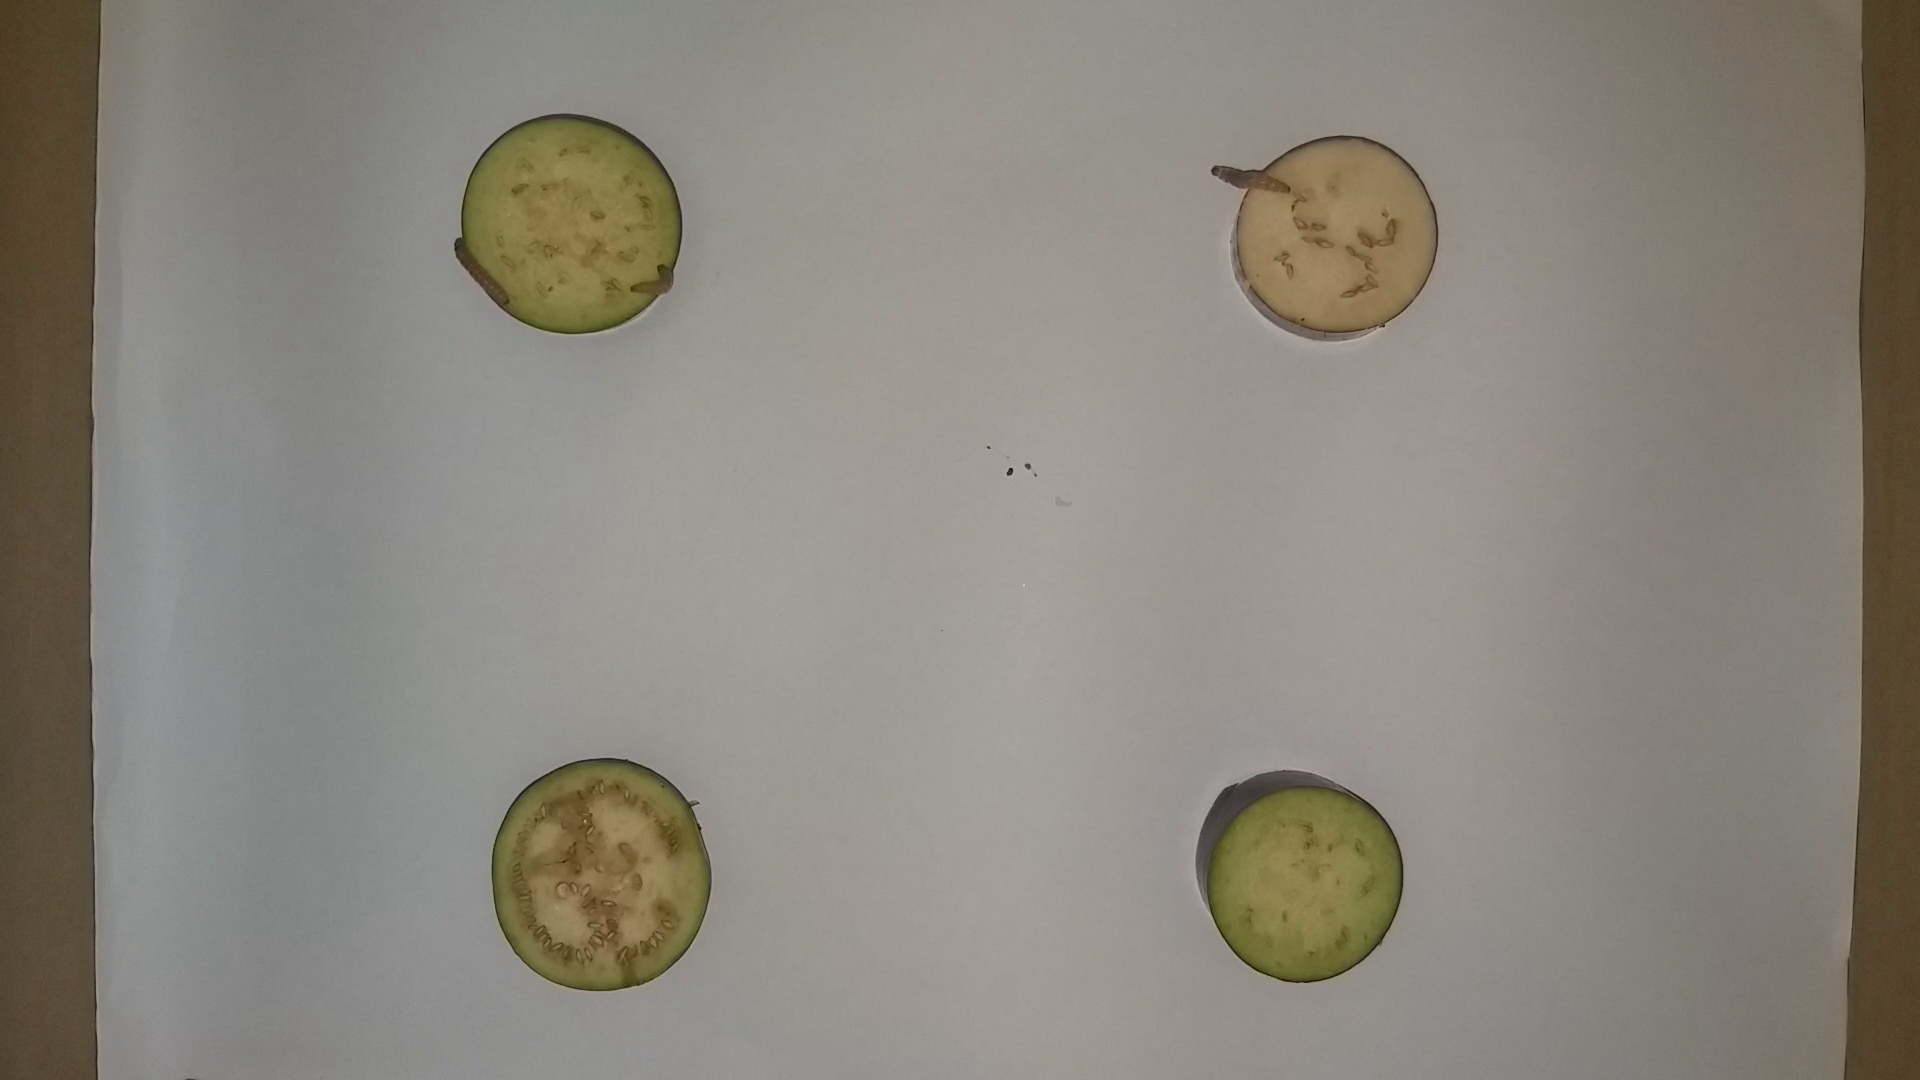efsb: (447, 231, 521, 320), (1203, 156, 1296, 196), (617, 252, 679, 305)
eggplant: (489, 750, 721, 1001), (454, 105, 698, 340), (1188, 764, 1411, 985), (1222, 131, 1443, 353)
